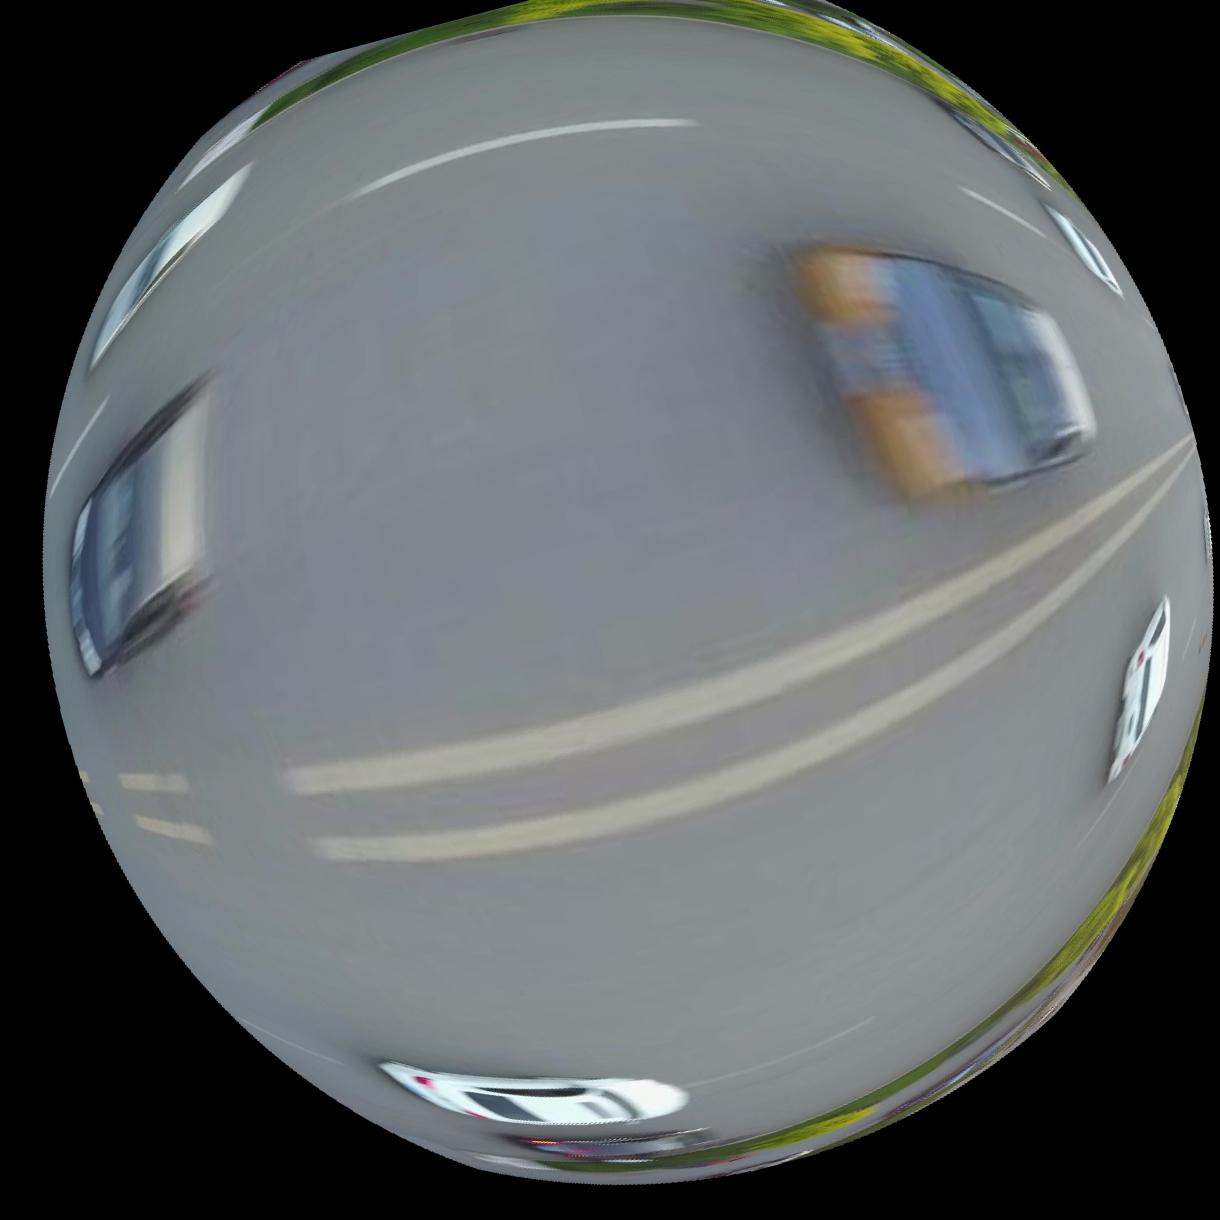cars: (797, 248, 1096, 498), (66, 377, 207, 677), (88, 163, 249, 368), (379, 1064, 687, 1128), (1109, 597, 1172, 783), (1045, 203, 1123, 296), (516, 1131, 714, 1165)
